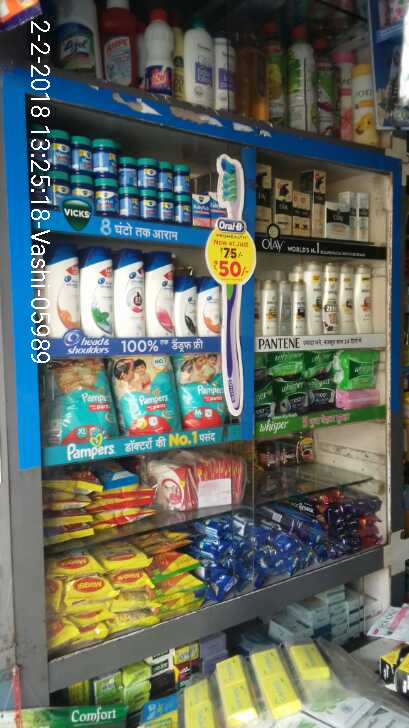beauty: (45, 244, 81, 340), (113, 245, 146, 337), (81, 246, 112, 337), (146, 249, 176, 336), (304, 258, 324, 335), (175, 276, 200, 337), (198, 275, 222, 336), (252, 162, 271, 232), (321, 262, 339, 335), (356, 261, 373, 332), (338, 262, 354, 336), (274, 178, 293, 235), (322, 199, 349, 239), (311, 168, 326, 237), (261, 280, 279, 336), (291, 191, 311, 237), (279, 280, 293, 337), (293, 279, 307, 336), (344, 191, 358, 244), (358, 190, 372, 241)
pharmacy: (41, 360, 117, 449), (108, 355, 180, 436), (172, 353, 230, 428), (336, 350, 378, 389), (263, 346, 301, 378), (93, 139, 121, 179), (46, 128, 72, 171), (92, 177, 120, 215), (70, 136, 95, 175), (302, 352, 335, 378), (134, 157, 157, 189), (118, 153, 139, 188), (137, 188, 158, 222), (193, 191, 212, 228), (119, 187, 140, 218), (309, 389, 337, 411), (158, 189, 176, 223), (281, 394, 308, 415), (174, 193, 191, 225), (174, 164, 192, 194), (156, 161, 173, 191)
